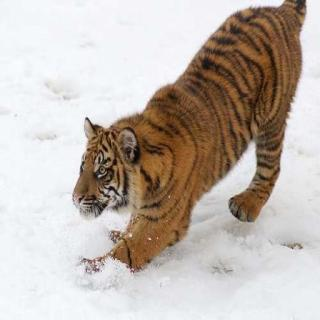Tiger: (61, 0, 320, 289)
